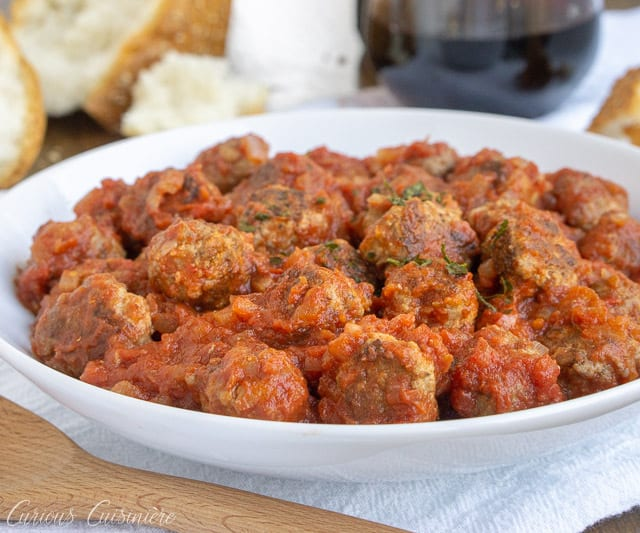meatballs: (195, 335, 321, 424), (241, 154, 345, 252), (146, 214, 254, 307), (335, 330, 439, 426), (31, 281, 153, 361), (493, 208, 583, 304), (379, 194, 474, 273), (459, 331, 550, 412), (277, 269, 370, 340), (395, 267, 475, 340)
